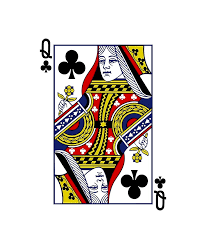queen of clubs: (35, 32, 173, 218)
